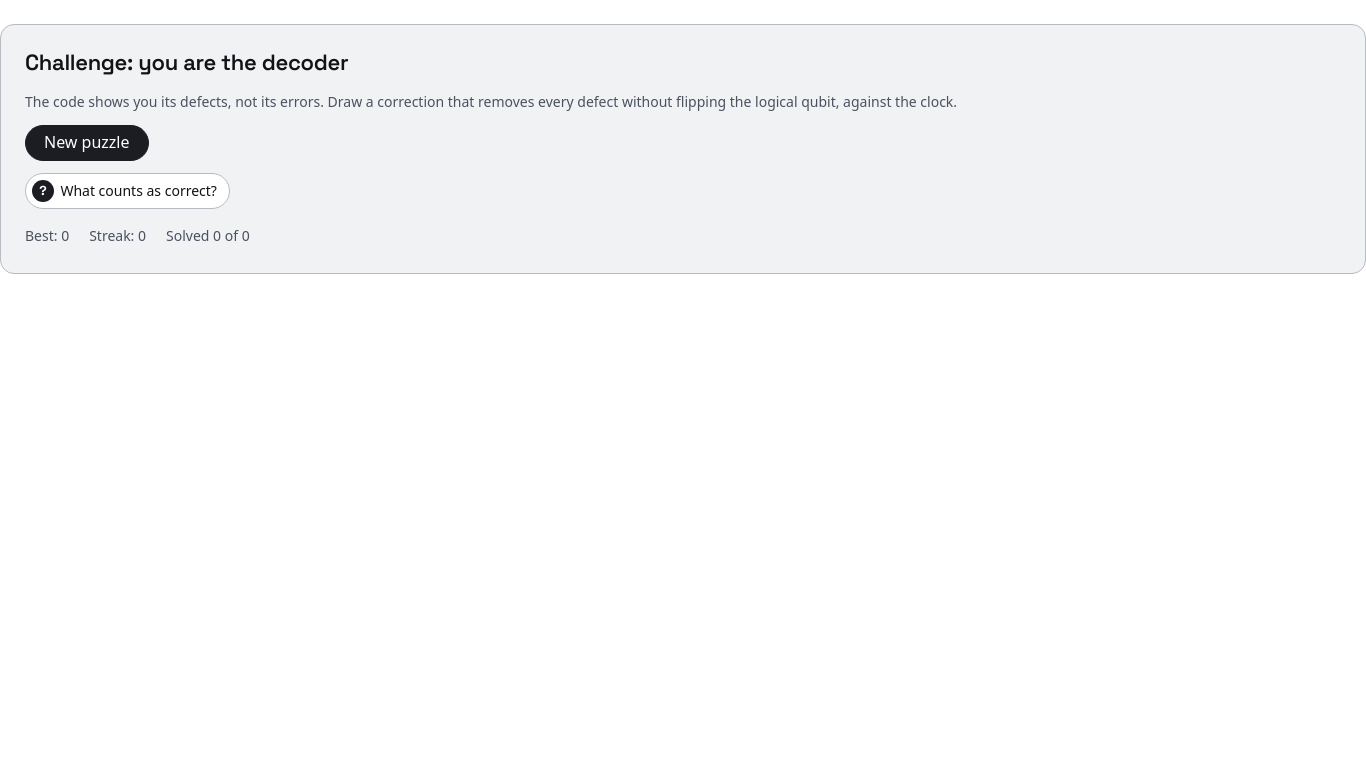
Test case: ChallengePanel › the clock counts down each second in a live region and times the puzzle out at the limit
Later steps or results of the test are not shown.
Click the button "New puzzle": coordinates (87, 143) x1=25 y1=125 x2=148 y2=161
Wait 20000 ms
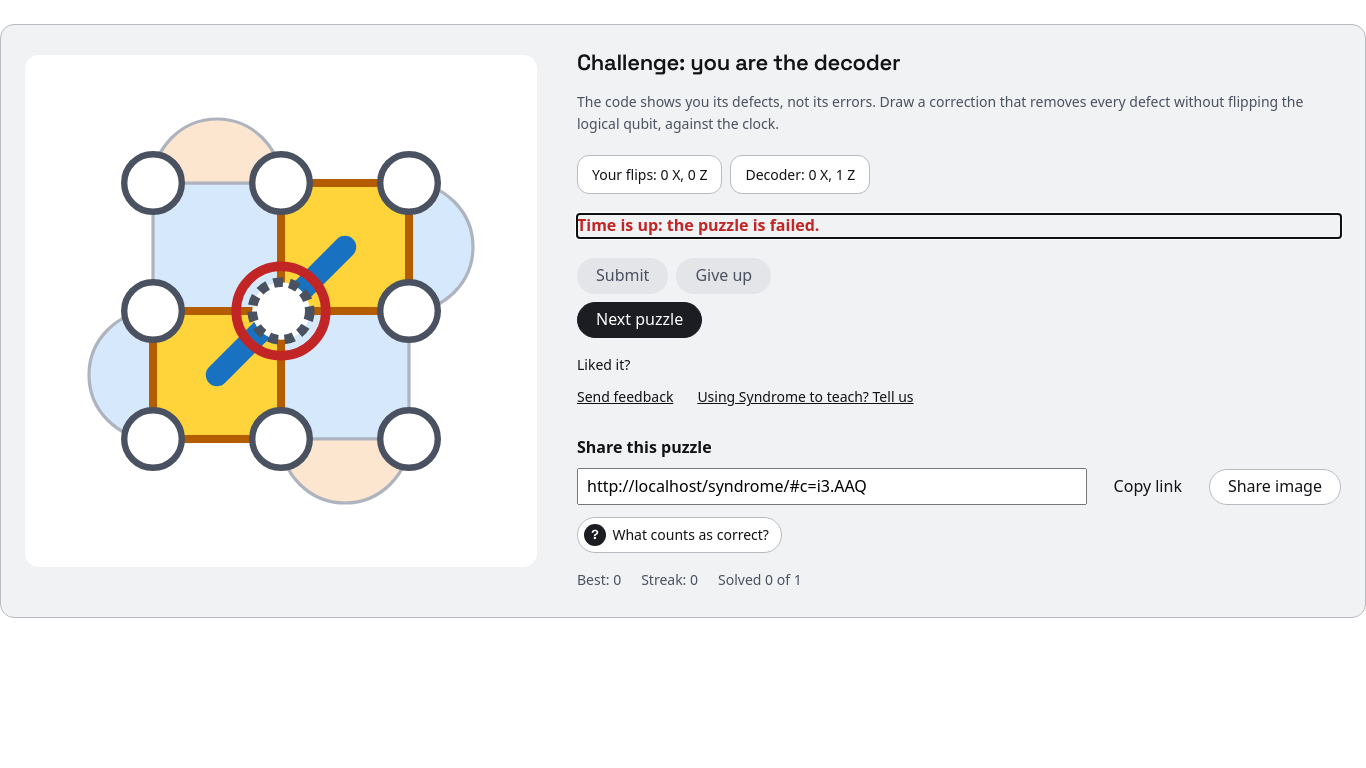
Now the text with class "challenge__verdict" reads "Time is up: the puzzle is failed.", box x1=577 y1=214 x2=819 y2=236
